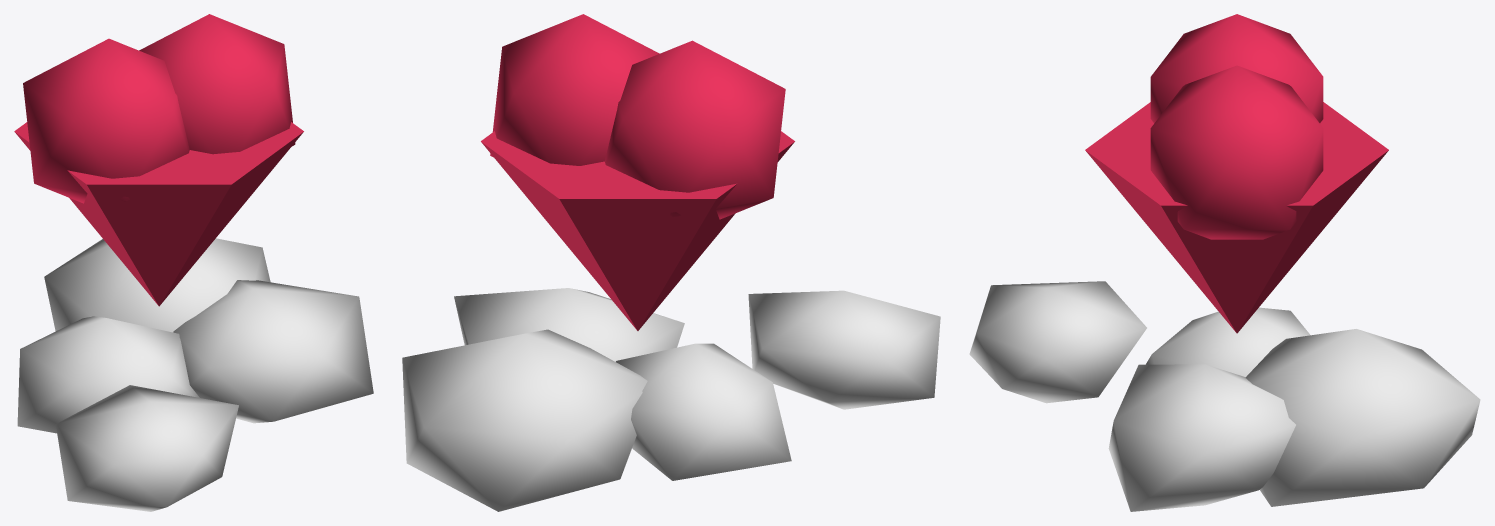
File: life_crystal_node_v0.glb
The picture shows the model from 3 angles, left to right: view 1: azimuth 30°, elevation 25°; view 2: azimuth 150°, elevation 25°; view 3: azimuth 270°, elevation 25°; orthographic projection. The views are drawn at different scales.
Parts seen in each view (by area): view 1: vital_crystal_node_v0; view 2: vital_crystal_node_v0; view 3: vital_crystal_node_v0.
Boxes of the visible parts, x1,y1,x2,y2 form: vital_crystal_node_v0: (14, 14, 373, 511); vital_crystal_node_v0: (402, 14, 940, 511); vital_crystal_node_v0: (969, 14, 1480, 511).
Bounding box in the file's own units: 0.8772 × 0.9249 × 1.01.
